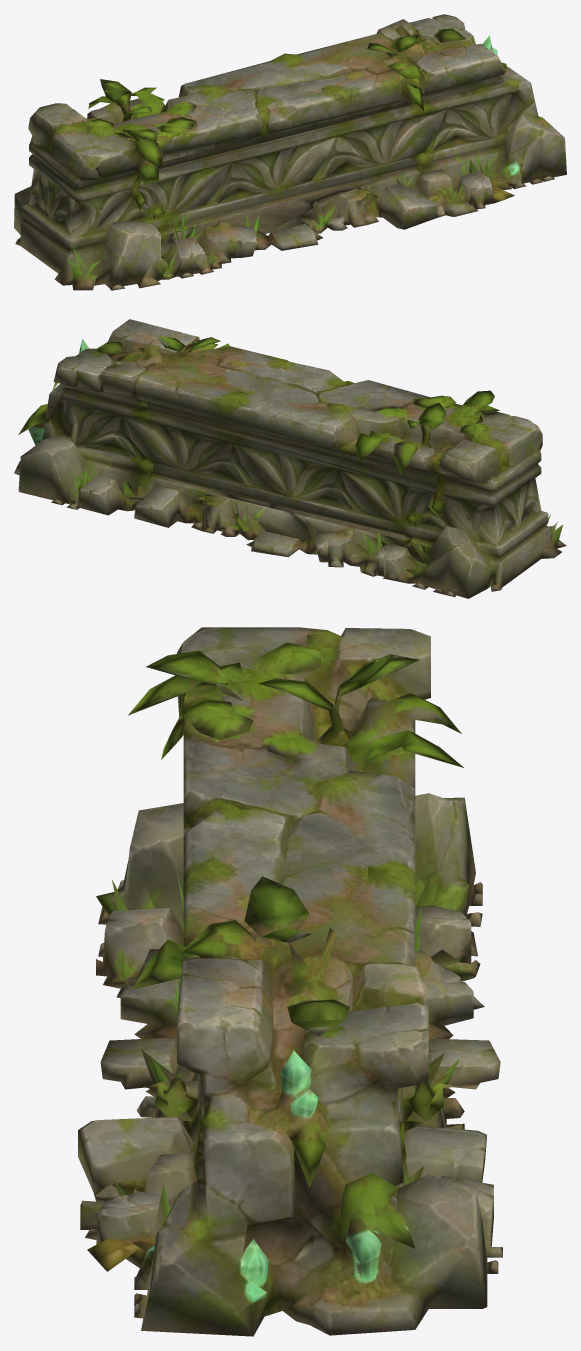
File: decor_5.fbx
3 renders of one model, top to bottom at view 1: azimuth 30°, elevation 25°; view 2: azimuth 150°, elevation 25°; view 3: azimuth 270°, elevation 25°, orthographic. The views are drawn at different scales.
Parts seen in each view (by area): view 1: decor_5; view 2: decor_5; view 3: decor_5.
Part boxes in pixels (bbox=[...]): decor_5: bbox=[14, 14, 566, 290]; decor_5: bbox=[14, 319, 566, 598]; decor_5: bbox=[78, 627, 502, 1336].
Size of the model in its own units: 1.8 by 0.5002 by 0.6657.
Materials: 1 (1 with a texture image).
